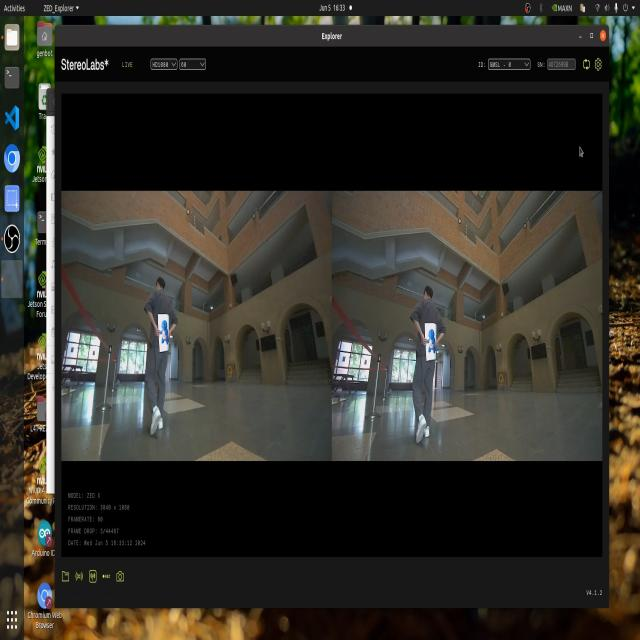blue: (159, 315, 175, 350), (424, 327, 438, 367)
